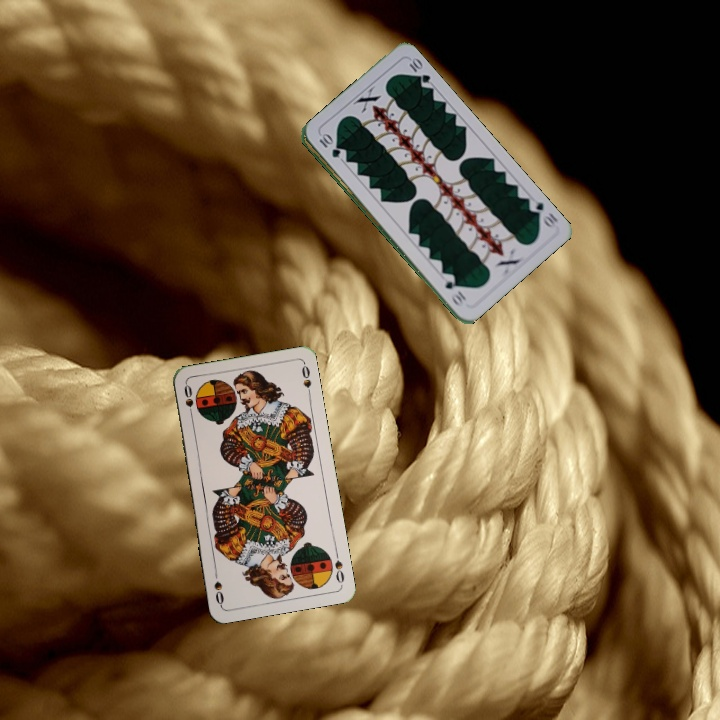G10: (524, 195, 560, 230), (315, 131, 342, 160)
SO: (330, 546, 347, 586), (180, 381, 196, 421)
